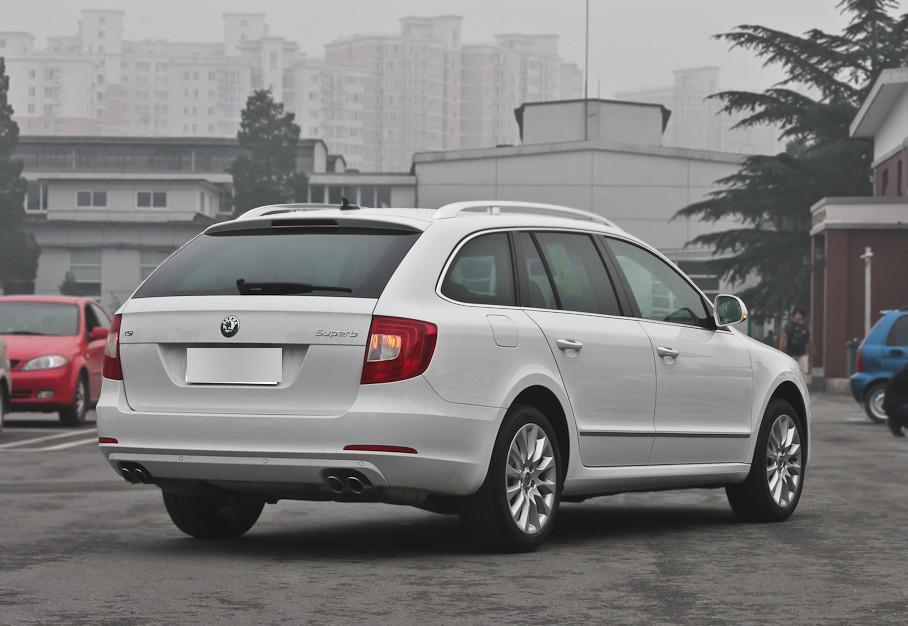Wagon: (95, 197, 810, 553)
